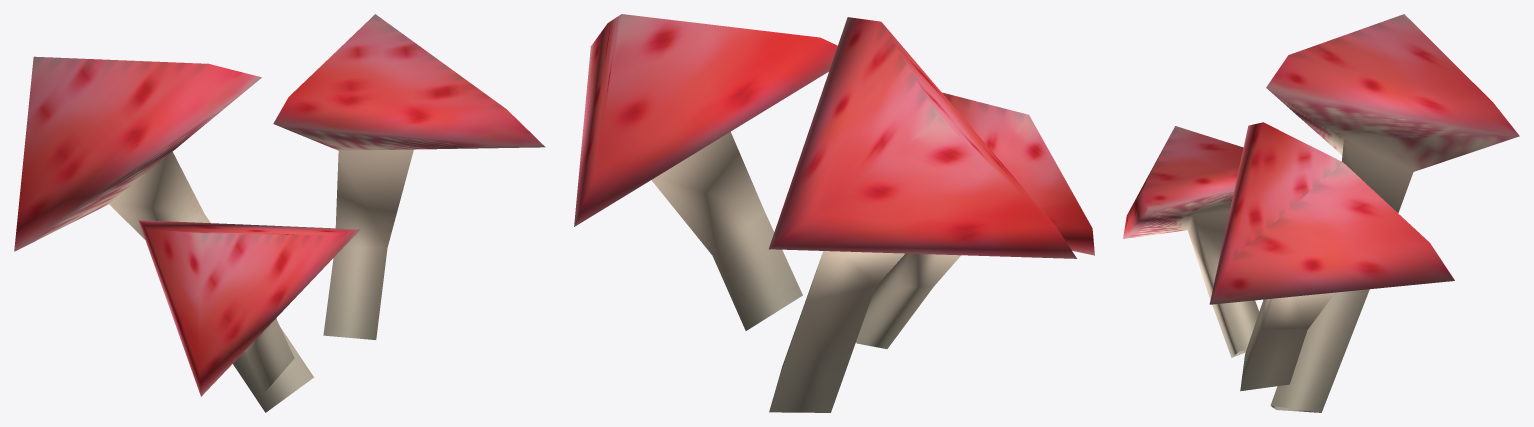
Rendered from Mushrooms02.fbx.
The picture shows the model from 3 angles, left to right: view 1: azimuth 30°, elevation 25°; view 2: azimuth 150°, elevation 25°; view 3: azimuth 270°, elevation 25°; orthographic projection. The views are drawn at different scales.
Visible parts, largest first — view 1: Mushrooms02; view 2: Mushrooms02; view 3: Mushrooms02.
Part boxes in pixels (x1,y1,x2,y2): Mushrooms02: [14, 14, 545, 412]; Mushrooms02: [574, 14, 1094, 412]; Mushrooms02: [1123, 14, 1519, 412].
Size of the model in its own units: 87.42 by 62.47 by 67.68.
